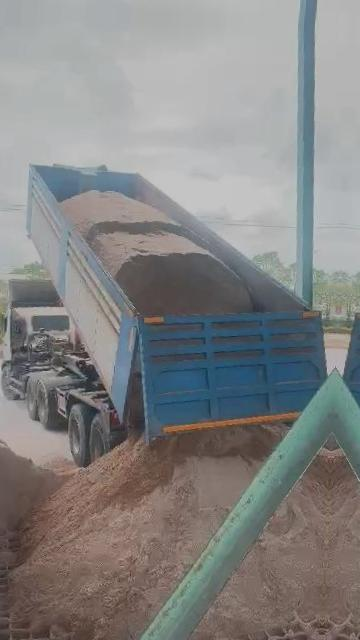sand: (10, 426, 283, 640), (192, 451, 332, 640), (60, 191, 252, 316), (0, 444, 81, 534), (129, 368, 144, 431)
